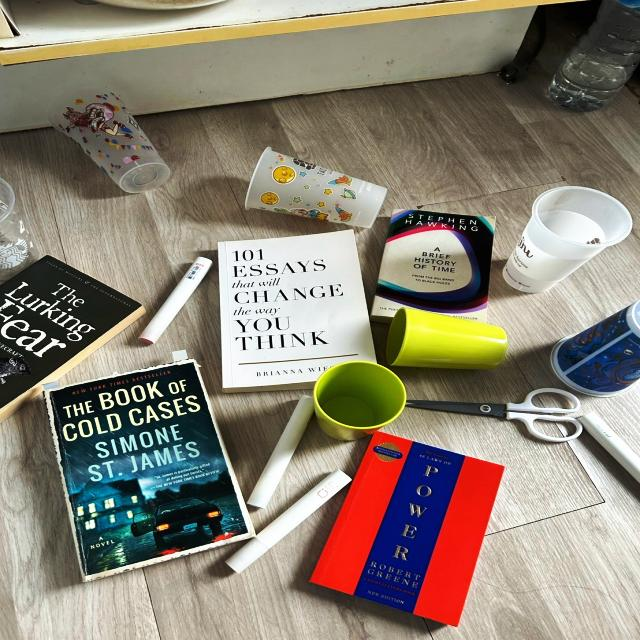Book: (45, 361, 254, 580), (311, 430, 504, 627), (218, 230, 375, 392), (0, 256, 144, 420), (370, 209, 493, 322)
HighLight Pen: (226, 470, 351, 572), (247, 396, 314, 508), (140, 257, 213, 345), (579, 412, 639, 482)
Plastic Cup: (503, 186, 632, 293), (54, 93, 170, 194), (245, 147, 387, 228), (550, 301, 639, 396), (0, 178, 40, 284)
Scissors: (414, 386, 584, 444)
WaterGlass: (314, 361, 406, 441), (386, 308, 507, 368)
